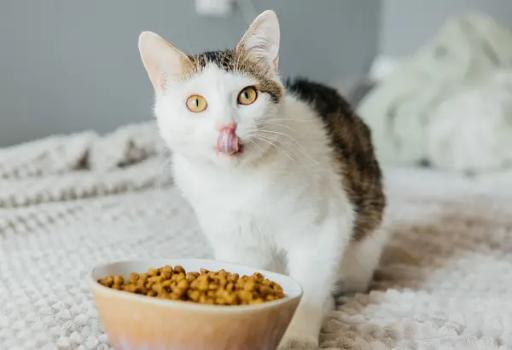cat_eating: (89, 10, 386, 350)
